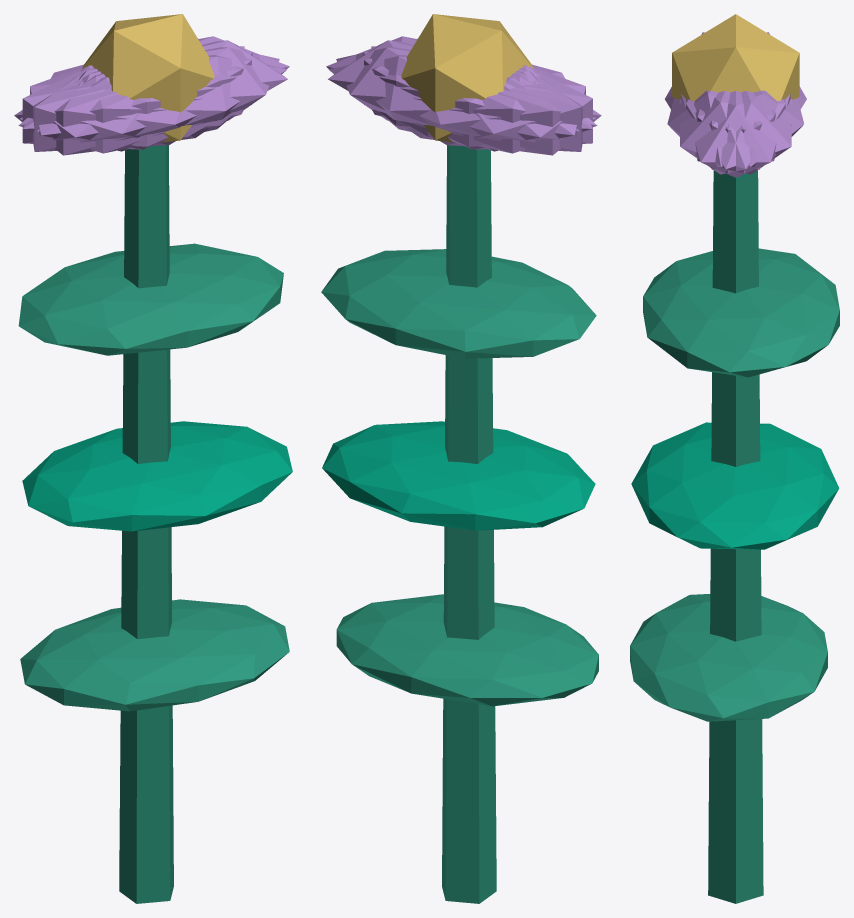
The model's file is malaisia-scandens.glb.
The picture shows the model from 3 angles, left to right: view 1: azimuth 30°, elevation 25°; view 2: azimuth 150°, elevation 25°; view 3: azimuth 270°, elevation 25°; orthographic projection.
Visible parts, largest first — view 1: stem, leaf0, leaf1, leaf2, center, petal1, petal6, petal2, petal5, petal7, petal0, petal4 (+2 smaller); view 2: stem, leaf2, leaf1, leaf0, center, petal8, petal3, petal7, petal4, petal2, petal0, petal5 (+2 smaller); view 3: stem, leaf1, leaf2, leaf0, center, petal0, petal4, petal5, petal8, petal1.
Boxes of the visible parts, x1=… form: stem: x1=119, y1=145, x2=173, y2=903; leaf0: x1=20, y1=599, x2=289, y2=711; leaf1: x1=22, y1=421, x2=292, y2=531; leaf2: x1=18, y1=243, x2=283, y2=355; center: x1=82, y1=14, x2=214, y2=142; petal1: x1=18, y1=55, x2=287, y2=153; petal6: x1=14, y1=67, x2=208, y2=155; petal2: x1=33, y1=46, x2=244, y2=151; petal5: x1=37, y1=47, x2=279, y2=146; petal7: x1=22, y1=52, x2=252, y2=149; petal0: x1=82, y1=40, x2=287, y2=137; petal4: x1=19, y1=36, x2=289, y2=129; stem: x1=442, y1=145, x2=496, y2=903; leaf2: x1=321, y1=249, x2=596, y2=358; leaf1: x1=322, y1=421, x2=595, y2=530; leaf0: x1=336, y1=594, x2=598, y2=706; center: x1=401, y1=14, x2=533, y2=142; petal8: x1=328, y1=55, x2=597, y2=153; petal3: x1=407, y1=67, x2=601, y2=155; petal7: x1=371, y1=46, x2=582, y2=151; petal4: x1=336, y1=47, x2=578, y2=146; petal2: x1=363, y1=52, x2=592, y2=149; petal0: x1=328, y1=40, x2=533, y2=137; petal5: x1=326, y1=36, x2=595, y2=128; stem: x1=708, y1=170, x2=763, y2=903; leaf1: x1=631, y1=422, x2=839, y2=549; leaf2: x1=643, y1=248, x2=839, y2=377; leaf0: x1=630, y1=594, x2=827, y2=721; center: x1=672, y1=14, x2=799, y2=101; petal0: x1=681, y1=91, x2=790, y2=177; petal4: x1=686, y1=91, x2=791, y2=174; petal5: x1=679, y1=91, x2=785, y2=174; petal8: x1=695, y1=90, x2=803, y2=166; petal1: x1=667, y1=90, x2=776, y2=166.
Size of the model in its own units: 0.1452 by 0.4563 by 0.1007.
